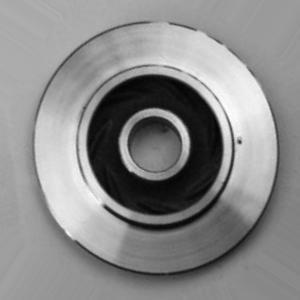defect: (219, 115, 254, 163)
